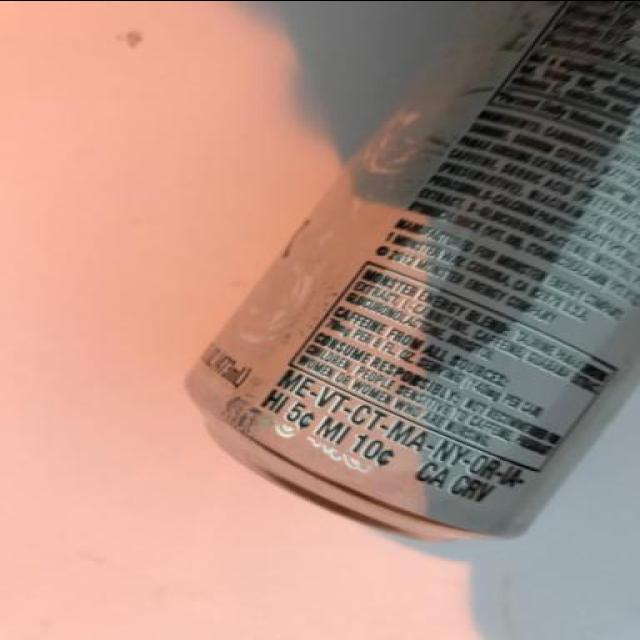Aluminum Can: (176, 3, 640, 547)
